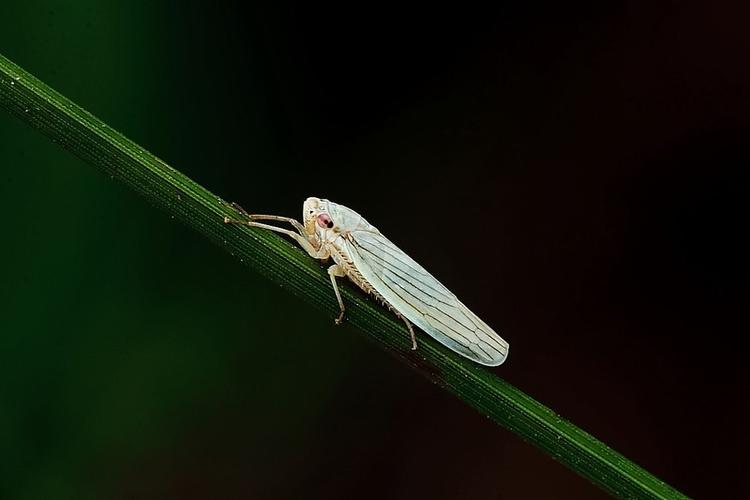Cicadellidae: (233, 194, 510, 366)
